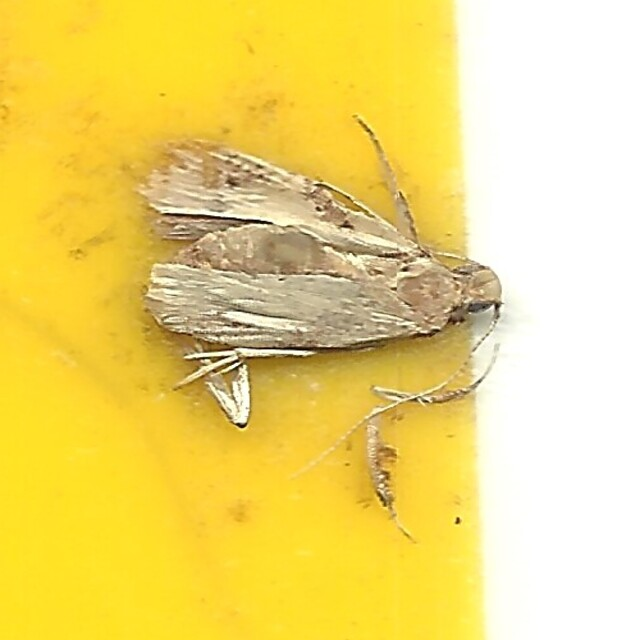Lepidoptera: (128, 111, 512, 529)
